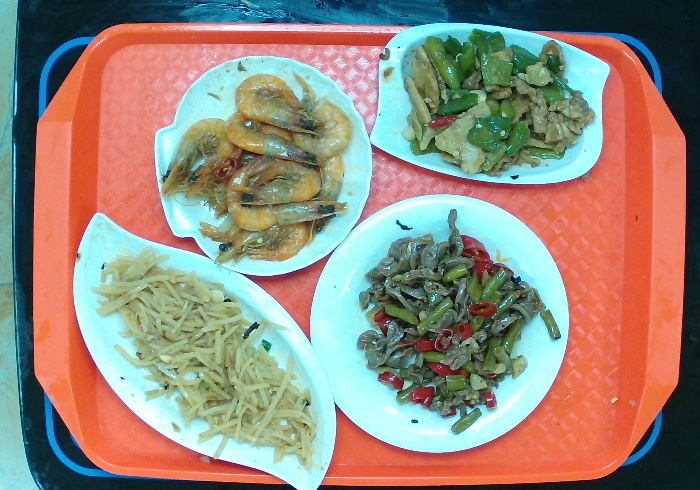RJxy-Bei_Ke_Wan: (152, 53, 374, 277)
RJxy-Jian_Jiao_Fang_Die: (368, 21, 612, 186)
RJxy-Jian_Jiao_Pan: (71, 209, 338, 490)
RJxy-Yuan_Pan: (308, 192, 571, 455)
